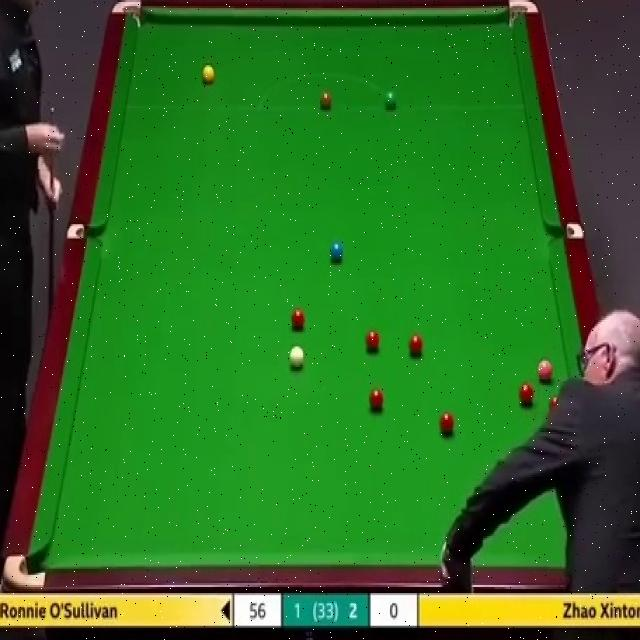blue-ball: (331, 241, 343, 264)
brown-ball: (320, 92, 333, 110)
green-ball: (385, 90, 396, 110)
pink-ball: (538, 358, 554, 383)
red-ball: (438, 411, 455, 436), (364, 329, 380, 353), (409, 331, 424, 356), (370, 388, 384, 412), (519, 383, 534, 405), (292, 306, 306, 328), (548, 392, 562, 412)
white-ball: (288, 346, 306, 374)
yellow-ball: (202, 65, 216, 86)
